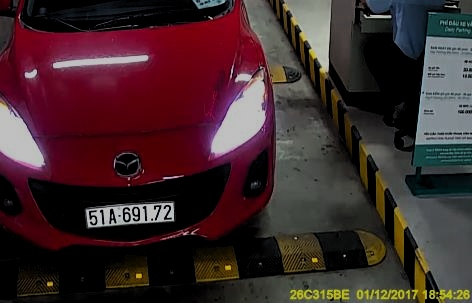plate: (83, 198, 174, 227)
